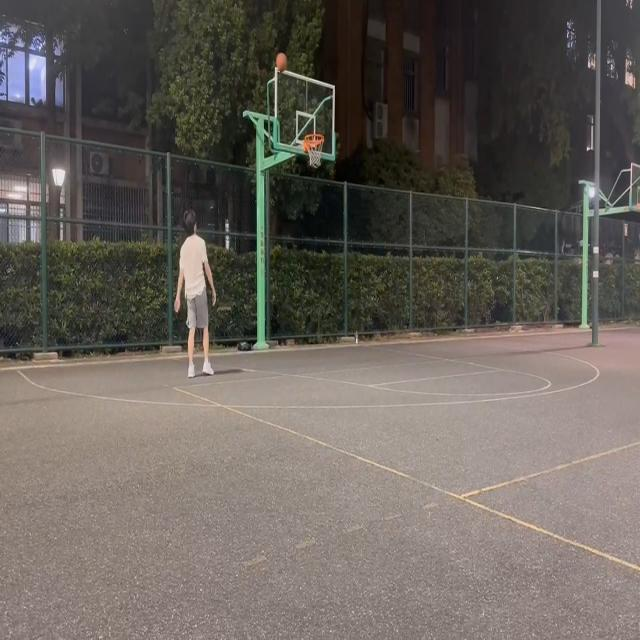basketball: (304, 134, 324, 168)
rim: (276, 52, 287, 72)
